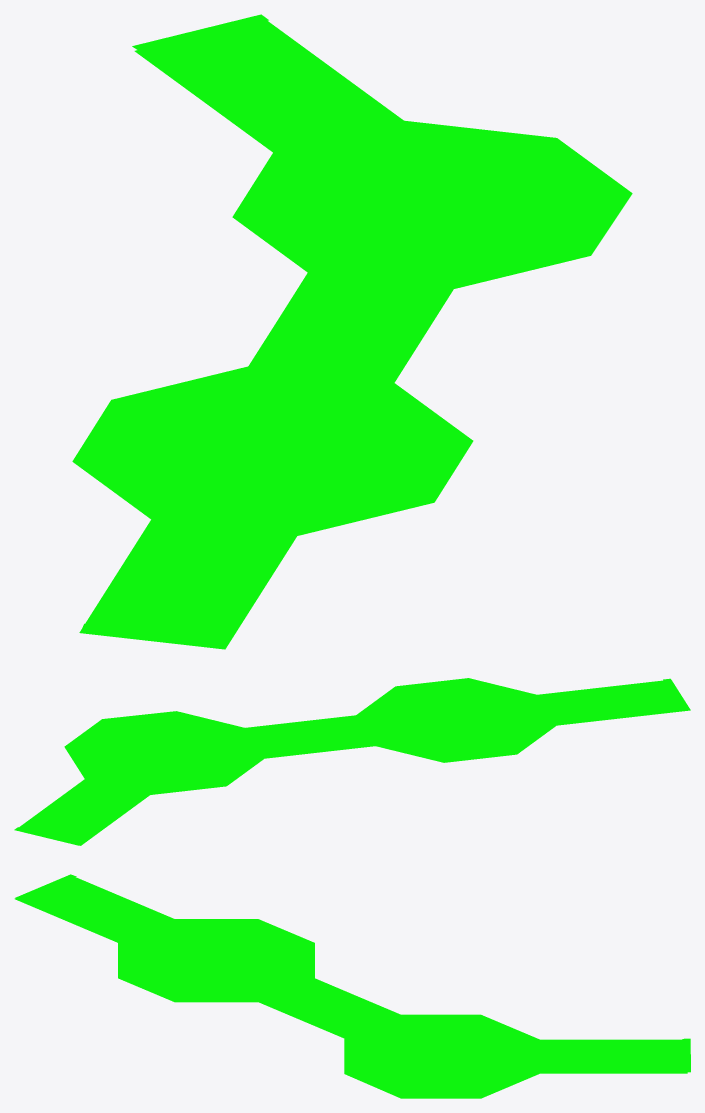
File: s07e_ia1-floor.glb
The picture shows the model from 3 angles, top to bottom: view 1: azimuth 30°, elevation 25°; view 2: azimuth 150°, elevation 25°; view 3: azimuth 270°, elevation 25°; orthographic projection. The views are drawn at different scales.
Visible parts, largest first — view 1: collision_floor-colonly; view 2: collision_floor-colonly; view 3: collision_floor-colonly.
Boxes of the visible parts, box(x1,y1,x2,y2) form: collision_floor-colonly: box(72, 14, 632, 649); collision_floor-colonly: box(14, 678, 690, 845); collision_floor-colonly: box(14, 874, 690, 1098).
Bounding box in the file's own units: 39.65 × 0.1016 × 50.73.
